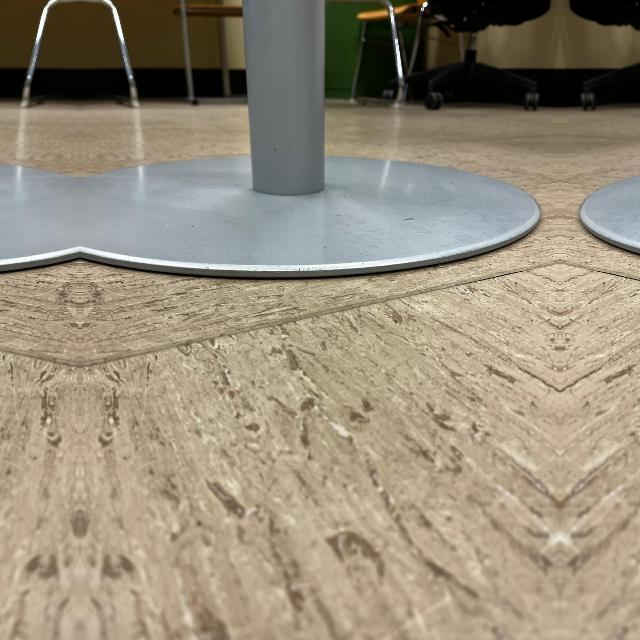obstacle: (80, 1, 538, 280), (0, 0, 80, 279), (582, 0, 640, 279)
